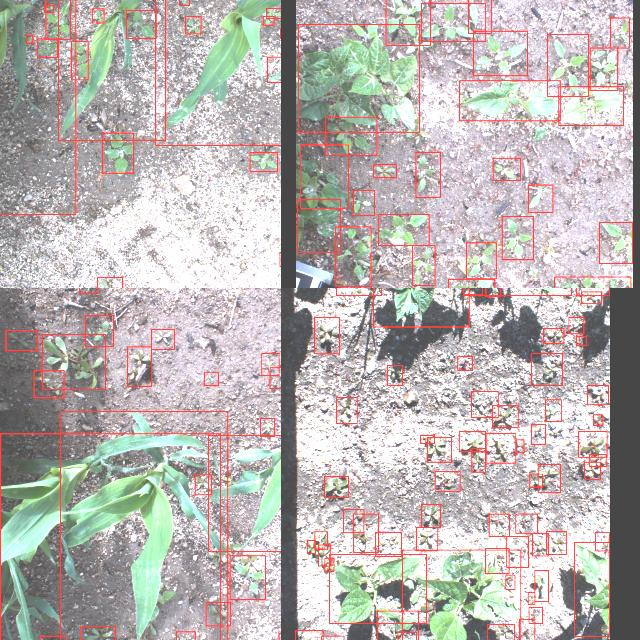crop: (0, 433, 220, 640), (60, 411, 228, 640), (155, 0, 281, 145), (0, 0, 75, 214), (58, 0, 166, 140), (298, 24, 419, 132), (401, 550, 520, 640), (208, 435, 281, 551), (329, 554, 426, 624), (460, 81, 560, 121), (373, 288, 469, 326), (574, 542, 610, 636), (558, 86, 624, 125), (267, 57, 281, 82)
weed: (41, 334, 105, 390), (300, 145, 348, 209), (420, 3, 486, 41), (473, 30, 527, 76), (548, 34, 588, 96), (296, 200, 340, 252), (336, 227, 370, 287), (385, 0, 430, 45), (326, 117, 376, 155), (378, 214, 428, 246), (230, 556, 266, 600), (502, 217, 534, 260), (600, 222, 632, 264), (102, 133, 134, 173), (377, 610, 418, 640), (590, 48, 618, 90), (416, 152, 440, 198), (466, 243, 496, 279), (314, 316, 340, 354), (45, 0, 70, 39), (127, 346, 151, 386), (532, 353, 562, 385), (354, 514, 378, 552), (486, 433, 516, 463), (412, 245, 434, 285), (85, 316, 114, 346), (126, 10, 156, 38), (34, 370, 64, 398), (468, 0, 491, 33), (528, 184, 554, 212), (578, 432, 608, 456), (507, 536, 529, 568), (70, 42, 88, 80), (472, 392, 498, 418), (375, 532, 401, 556), (485, 548, 509, 574), (493, 158, 521, 180), (538, 465, 560, 493), (610, 18, 630, 48), (6, 331, 36, 351), (206, 602, 230, 626), (427, 438, 451, 462), (492, 405, 518, 427), (250, 152, 278, 172), (352, 190, 373, 216), (416, 527, 438, 551), (434, 471, 460, 491), (336, 397, 356, 423), (459, 432, 485, 452), (324, 477, 348, 498), (80, 626, 115, 640), (422, 504, 441, 528), (535, 570, 549, 602), (152, 329, 174, 349), (547, 532, 567, 554), (343, 510, 363, 532), (489, 514, 509, 536), (487, 624, 514, 640), (449, 279, 495, 288), (37, 38, 57, 58), (588, 385, 608, 405), (516, 514, 538, 532), (194, 475, 212, 495), (262, 353, 278, 375), (533, 534, 549, 556), (545, 400, 561, 422), (519, 619, 535, 640), (471, 448, 485, 472), (544, 328, 564, 344), (185, 16, 201, 34), (594, 533, 610, 551), (585, 462, 601, 480), (374, 165, 396, 178), (295, 630, 323, 640), (532, 424, 546, 444), (388, 365, 402, 385), (97, 277, 122, 288), (318, 544, 330, 566), (260, 418, 274, 436), (570, 316, 584, 334), (582, 292, 602, 304), (270, 367, 281, 388), (529, 607, 543, 623), (314, 532, 328, 548), (204, 372, 218, 386), (458, 356, 472, 370), (590, 454, 606, 466), (176, 631, 195, 640), (92, 9, 104, 23), (397, 632, 416, 640), (266, 8, 281, 18), (530, 474, 542, 486), (463, 288, 483, 295), (324, 558, 334, 572), (485, 288, 500, 297), (506, 574, 514, 590), (420, 435, 434, 443), (307, 540, 315, 554), (264, 16, 274, 26), (577, 336, 587, 346), (593, 415, 603, 425), (516, 440, 524, 452), (78, 288, 97, 293), (320, 636, 343, 640), (528, 592, 534, 604), (44, 6, 54, 12), (179, 0, 189, 5), (26, 35, 32, 43)
